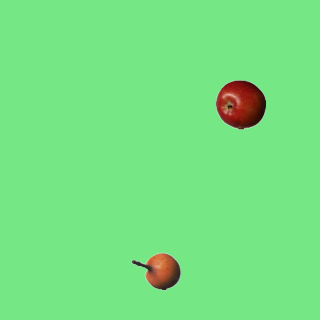Apple Braeburn: (215, 79, 265, 129)
Granadilla: (130, 246, 180, 296)
